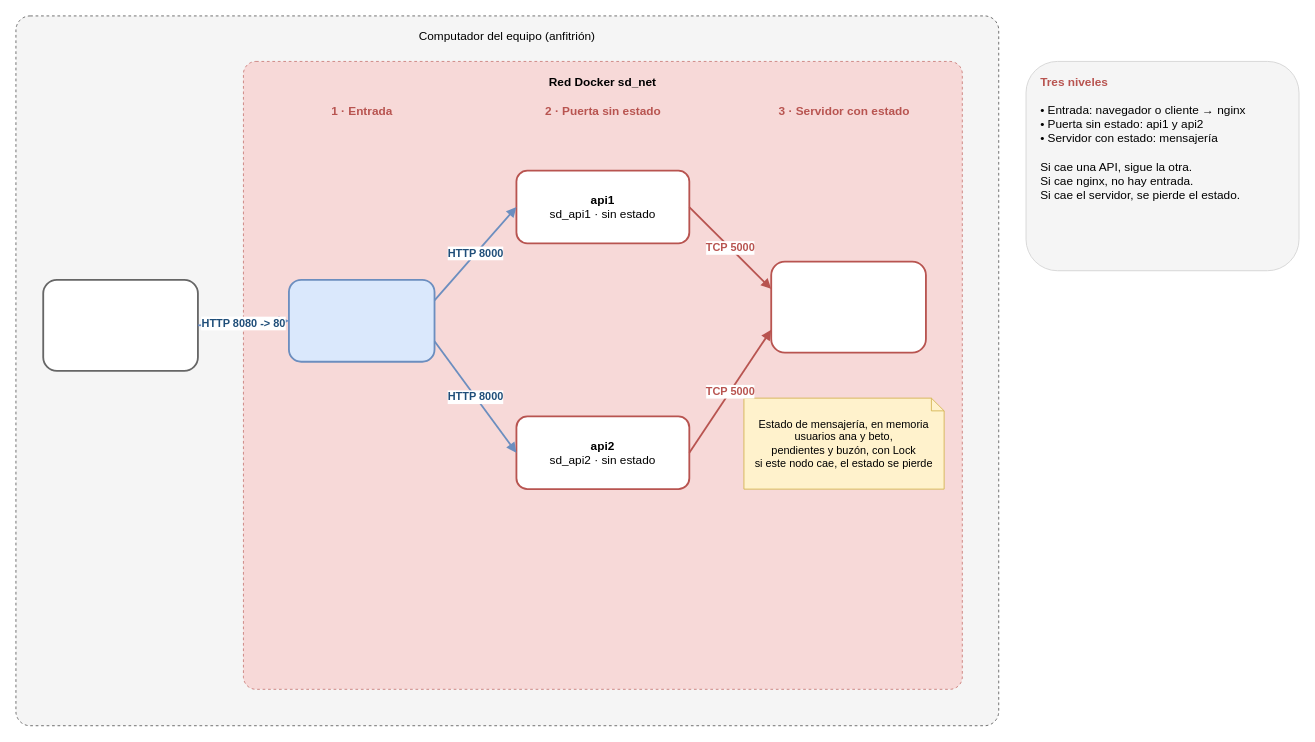
Image size: 1315x742. Some labels were removed from this diagram. Each missing label, with the centre of its shape:
"navegador o cliente sd_cliente" goes at point 120,324.
"nginx sd_nginx" goes at point 361,320.
"servidor sd_servidor · hilo por cliente" goes at point 848,306.
